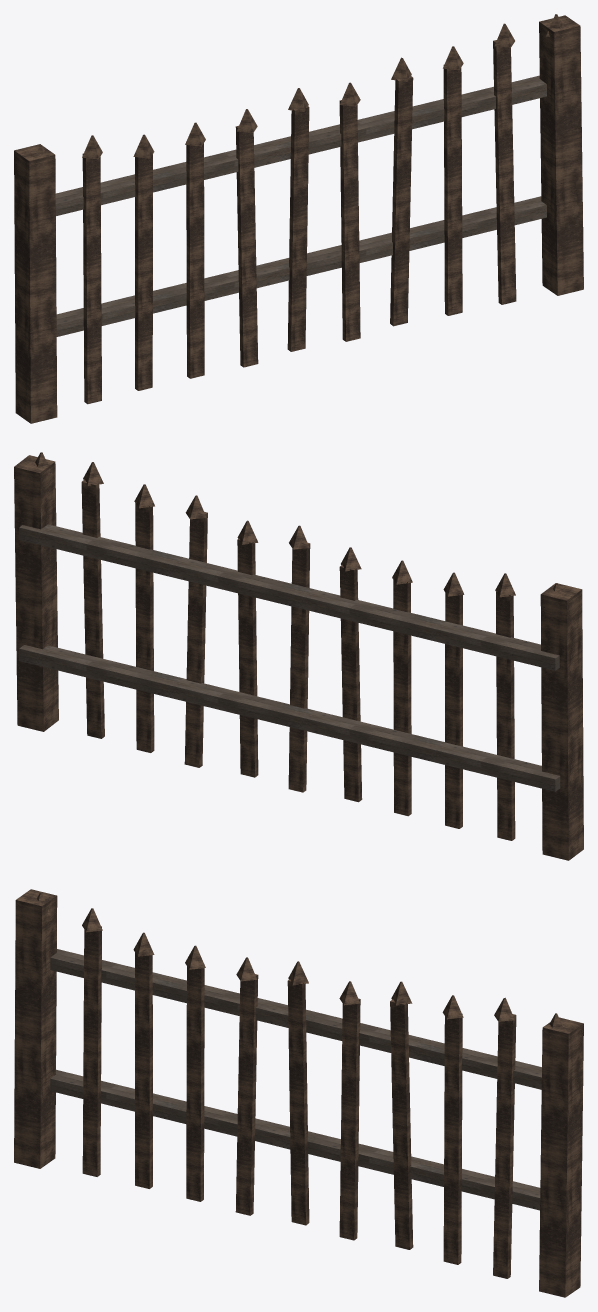
The model's file is prop_fence_picket.glb.
3 views of the same model, one above another, from view 1: azimuth 30°, elevation 25°; view 2: azimuth 150°, elevation 25°; view 3: azimuth 330°, elevation 25° (orthographic).
Parts seen in each view (by area): view 1: prop_fence_picket; view 2: prop_fence_picket; view 3: prop_fence_picket.
Boxes of the visible parts, <box> form: prop_fence_picket: <box>14,14,583,423</box>; prop_fence_picket: <box>14,452,583,860</box>; prop_fence_picket: <box>14,889,583,1297</box>.
Bounding box in the file's own units: 2.1 × 1 × 0.1416.
Materials: 2 (2 with a texture image).
